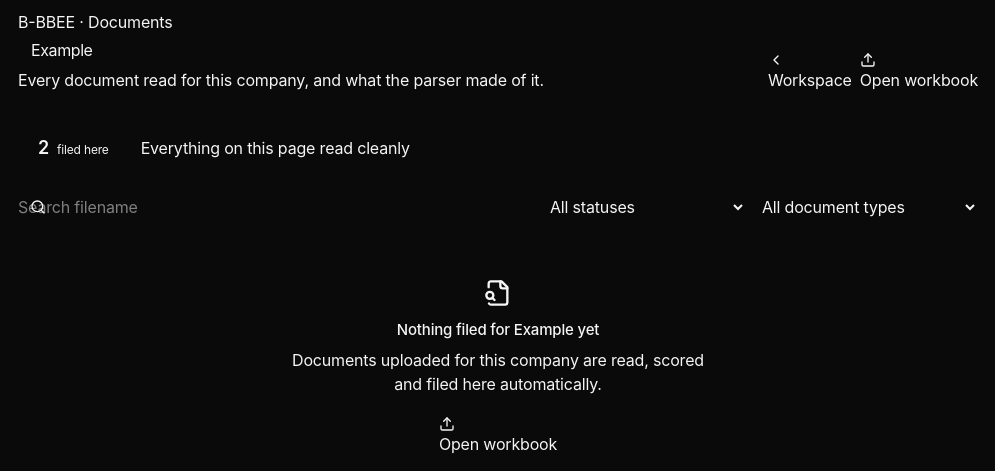
Test: one company's library › tells a filtered empty list apart from an empty company
The width and height of the screenshot is (995, 471).
In the field with test id "company-docs-search": (276, 207) [18,195,534,219], type "nothing-matches-this"
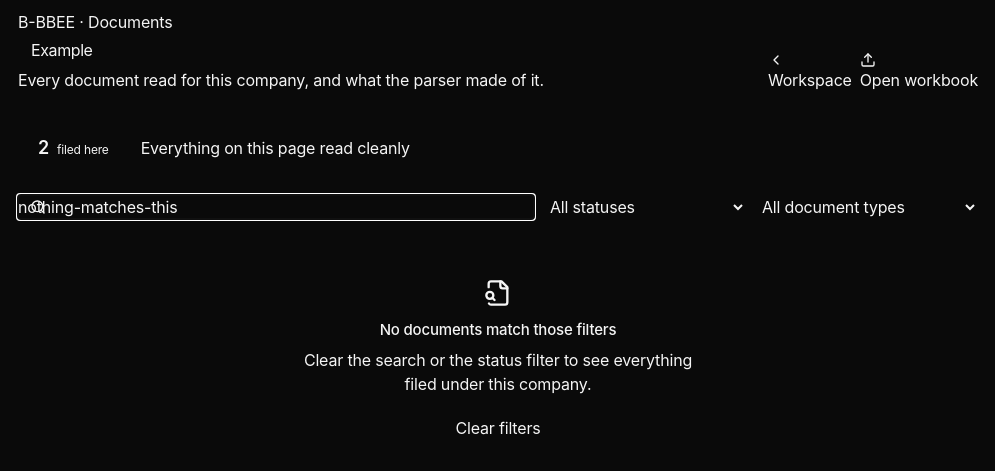
expect the text "No documents match those filters" is shown: met, box [380,320,616,339]
expect the button "Clear filters" is shown: met, box [456,416,541,440]
